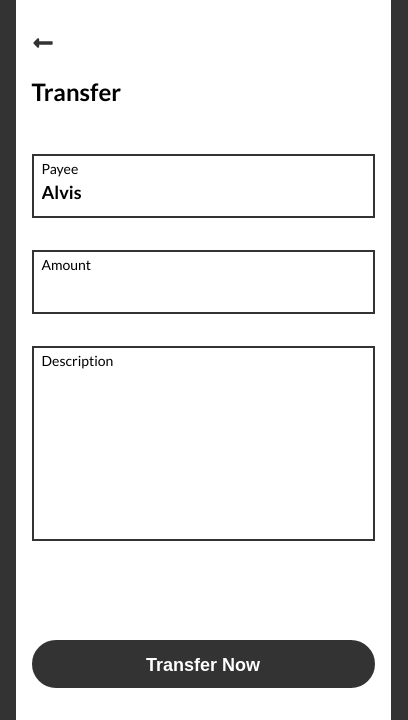
it: validate transfer form › amount is empty
The width and height of the screenshot is (408, 720).
Expected: the number field labelled "Amount" is shown, [42,272,364,304]
Select "Andy" in the dropdown labelled "Payee" at (203, 192), box [42,176,364,208]
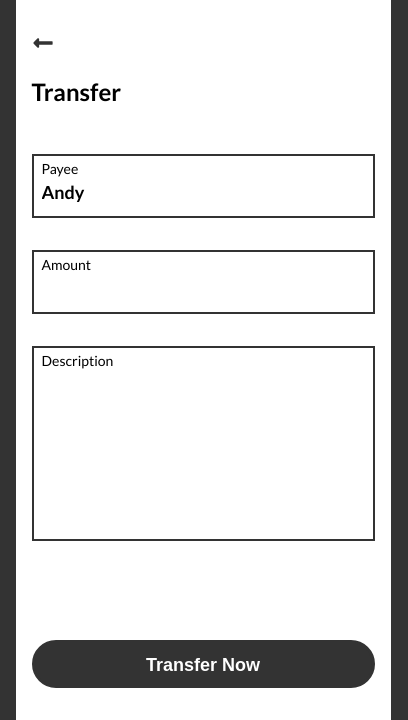
Click the button "Transfer Now" at (203, 664), box [32,640,374,688]
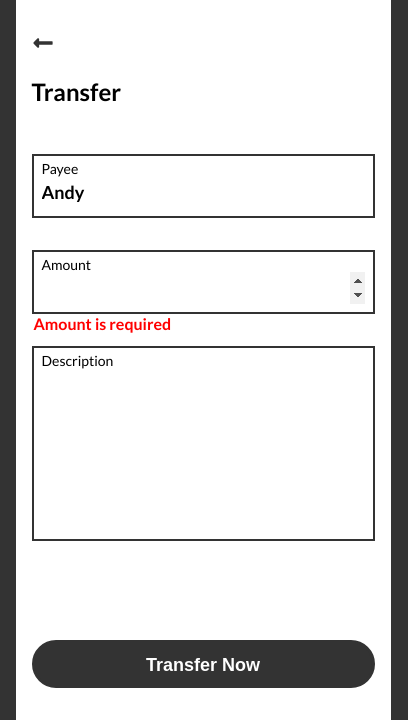
Expected: the messages read "Amount is required", in this order, [34,314,171,333]
